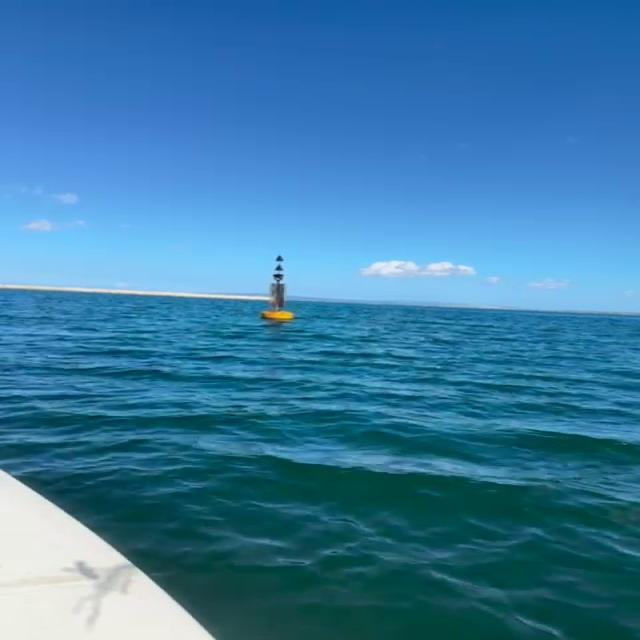marque: (261, 253, 302, 325)
